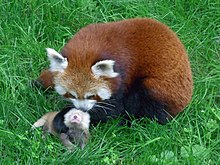red_panda: (33, 18, 196, 127)
